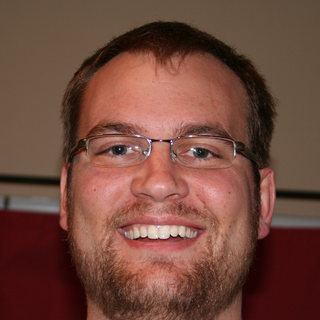eye: (95, 140, 140, 161), (178, 144, 226, 163)
